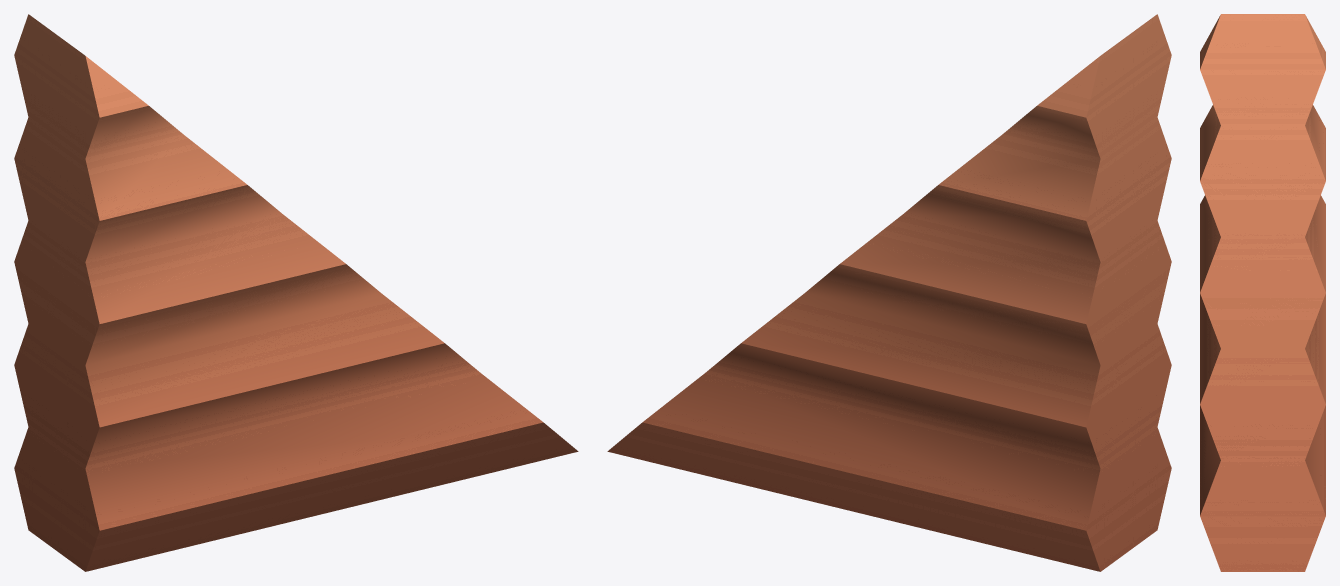
File: cabin-wall-roof.glb
3 views of the same model, side by side, from view 1: azimuth 30°, elevation 25°; view 2: azimuth 150°, elevation 25°; view 3: azimuth 270°, elevation 25° (orthographic). The views are drawn at different scales.
Visible parts, largest first — view 1: cabin-wall-roof; view 2: cabin-wall-roof; view 3: cabin-wall-roof.
Boxes of the visible parts, box(x1,y1,x2,y2) form: cabin-wall-roof: box(14, 14, 578, 571); cabin-wall-roof: box(607, 14, 1171, 571); cabin-wall-roof: box(1200, 14, 1325, 571).
Size of the model in its own units: 1 by 1 by 0.3.
1 material, 1 textured.
